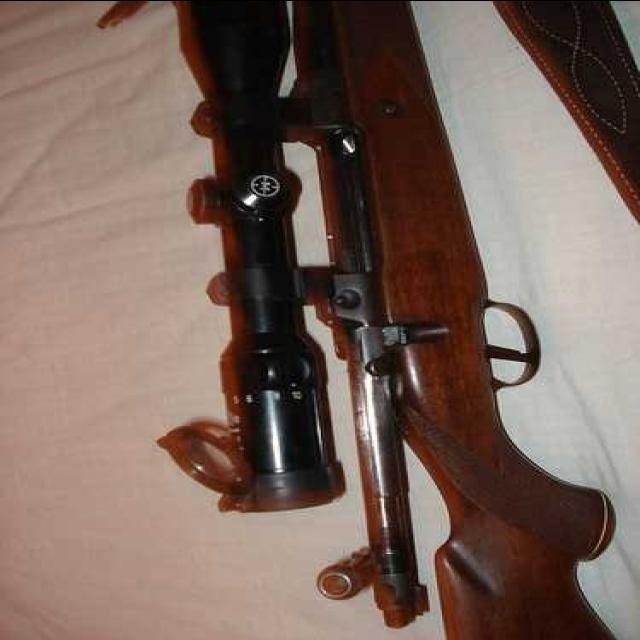heavyweapon: (150, 1, 622, 640)
